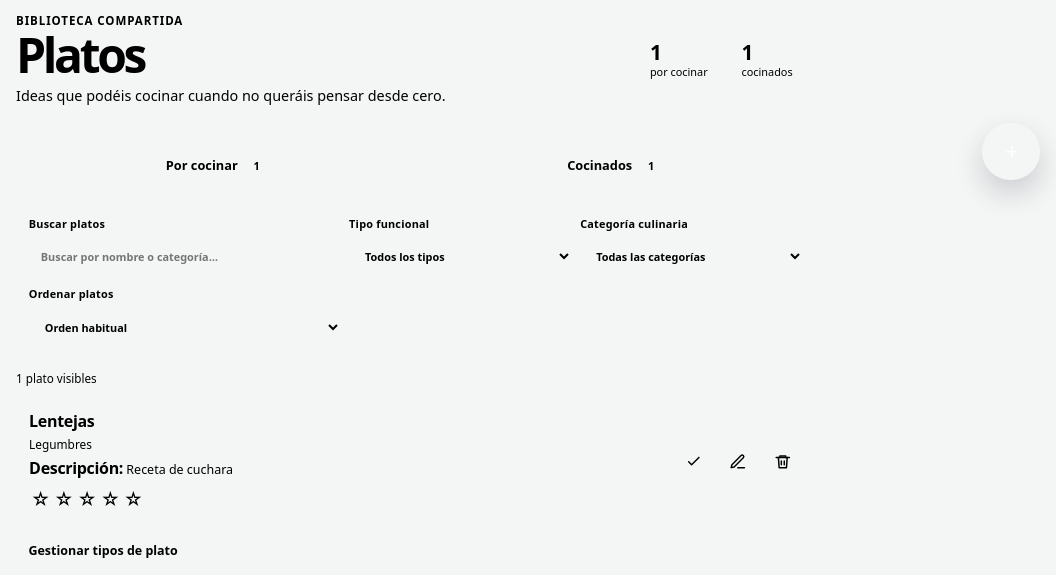
Test: MenuPlanningView › busca platos por descripción y comentario
The width and height of the screenshot is (1056, 575).
Expected: the text "Lentejas" is shown, [29,410,94,432]
Type "cuchara" into the search field labelled "Buscar platos" at (185, 257), box [29,235,341,278]
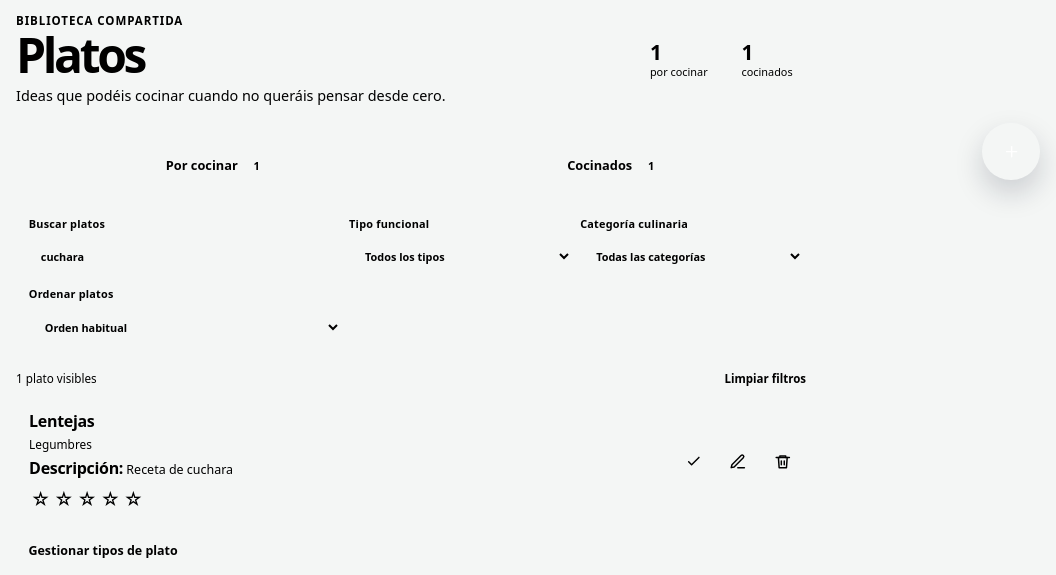
Expected: the text "Lentejas" is shown, [29,410,94,432]
Replace the text in the search field labelled "Buscar platos" with "fríos" at (185, 257), box [29,235,341,278]
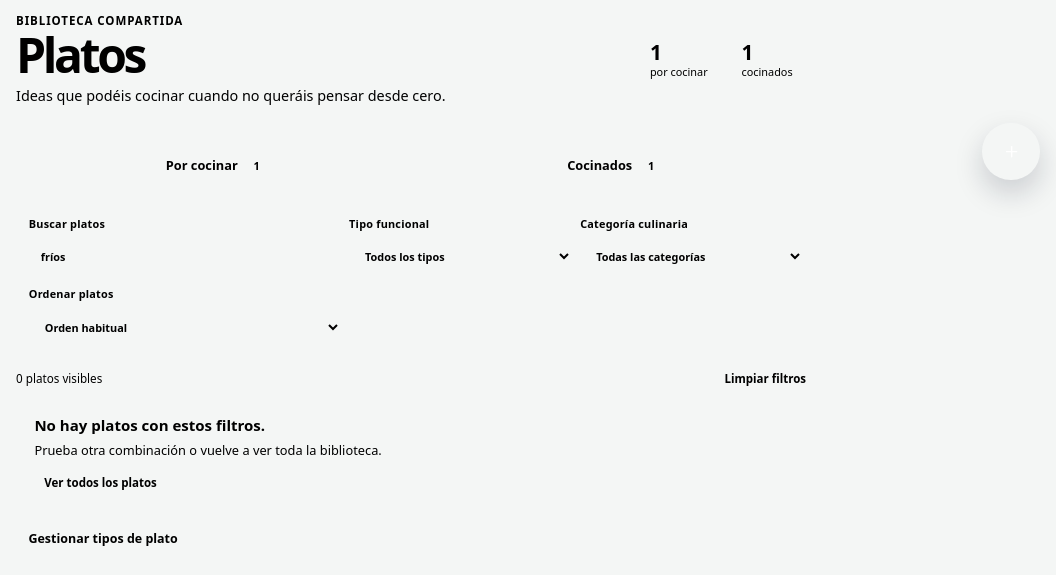
Click the tab "Cocinados 1" at (615, 165), box [418,145,812,186]
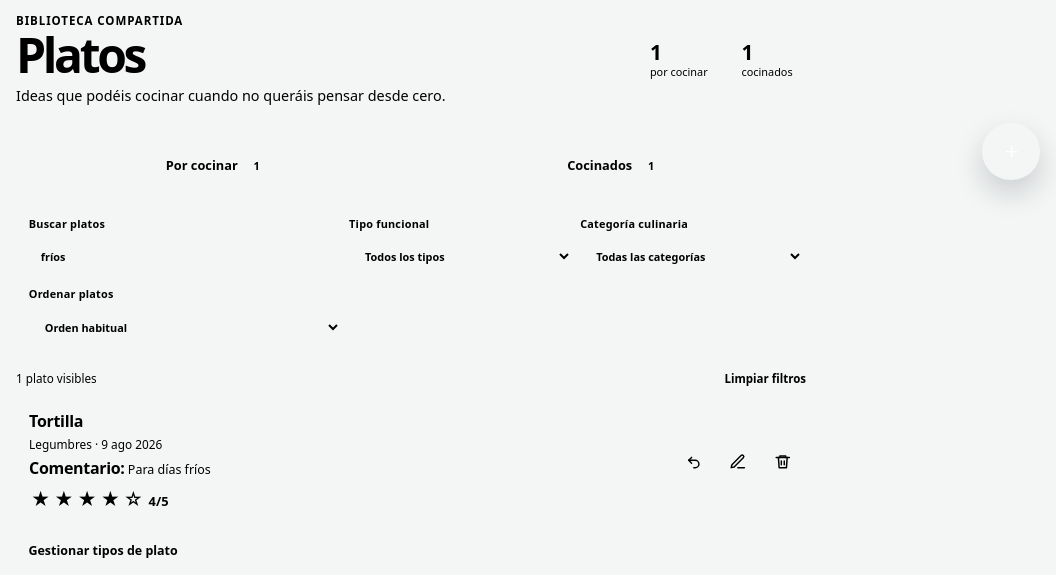
Expected: the text "Tortilla" is shown, [29,410,83,432]
